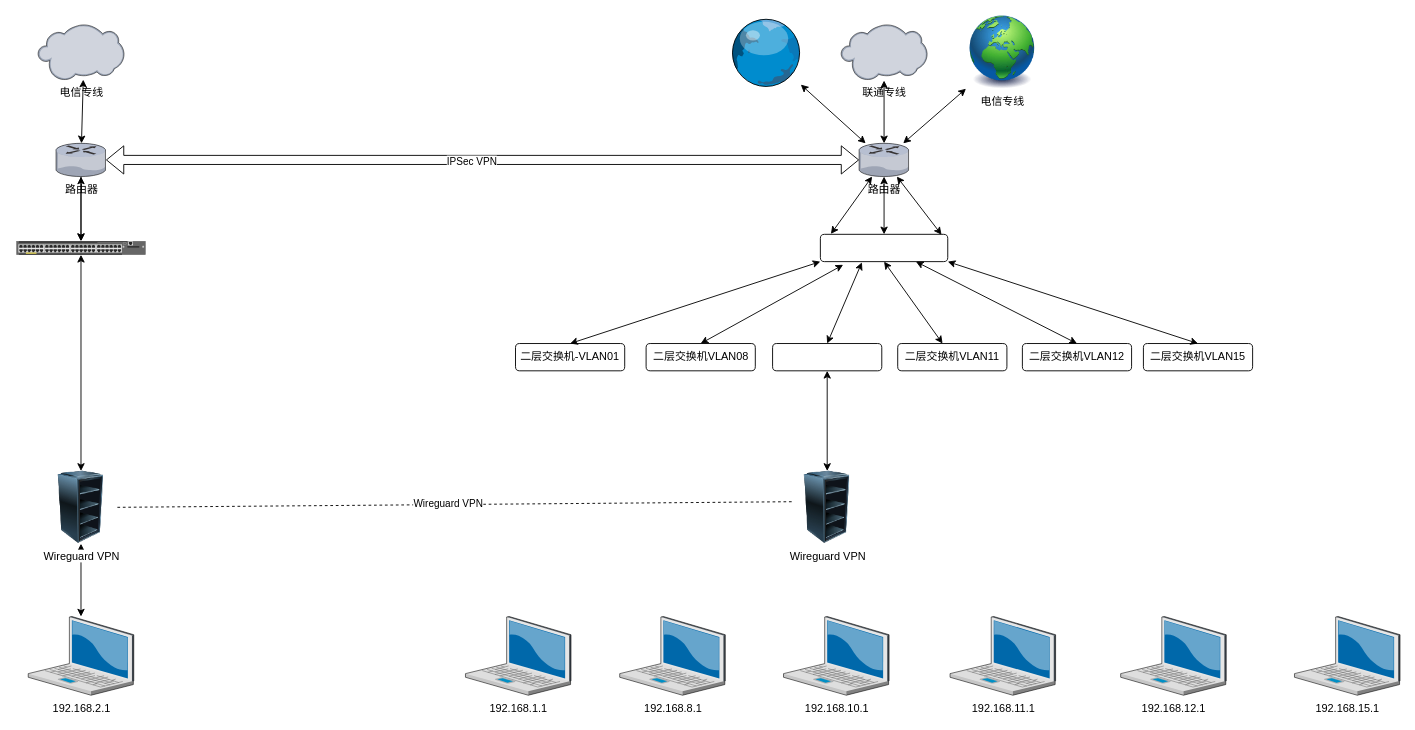
The diagram is 1415 pixels wide and 730 high, and some of its shapes have lost their labels. Each missing label, with the box of its shape:
二层交换机VLAN10: (772, 343, 882, 371)
核心交换机: (819, 233, 948, 262)
电信动态: (729, 18, 800, 86)
